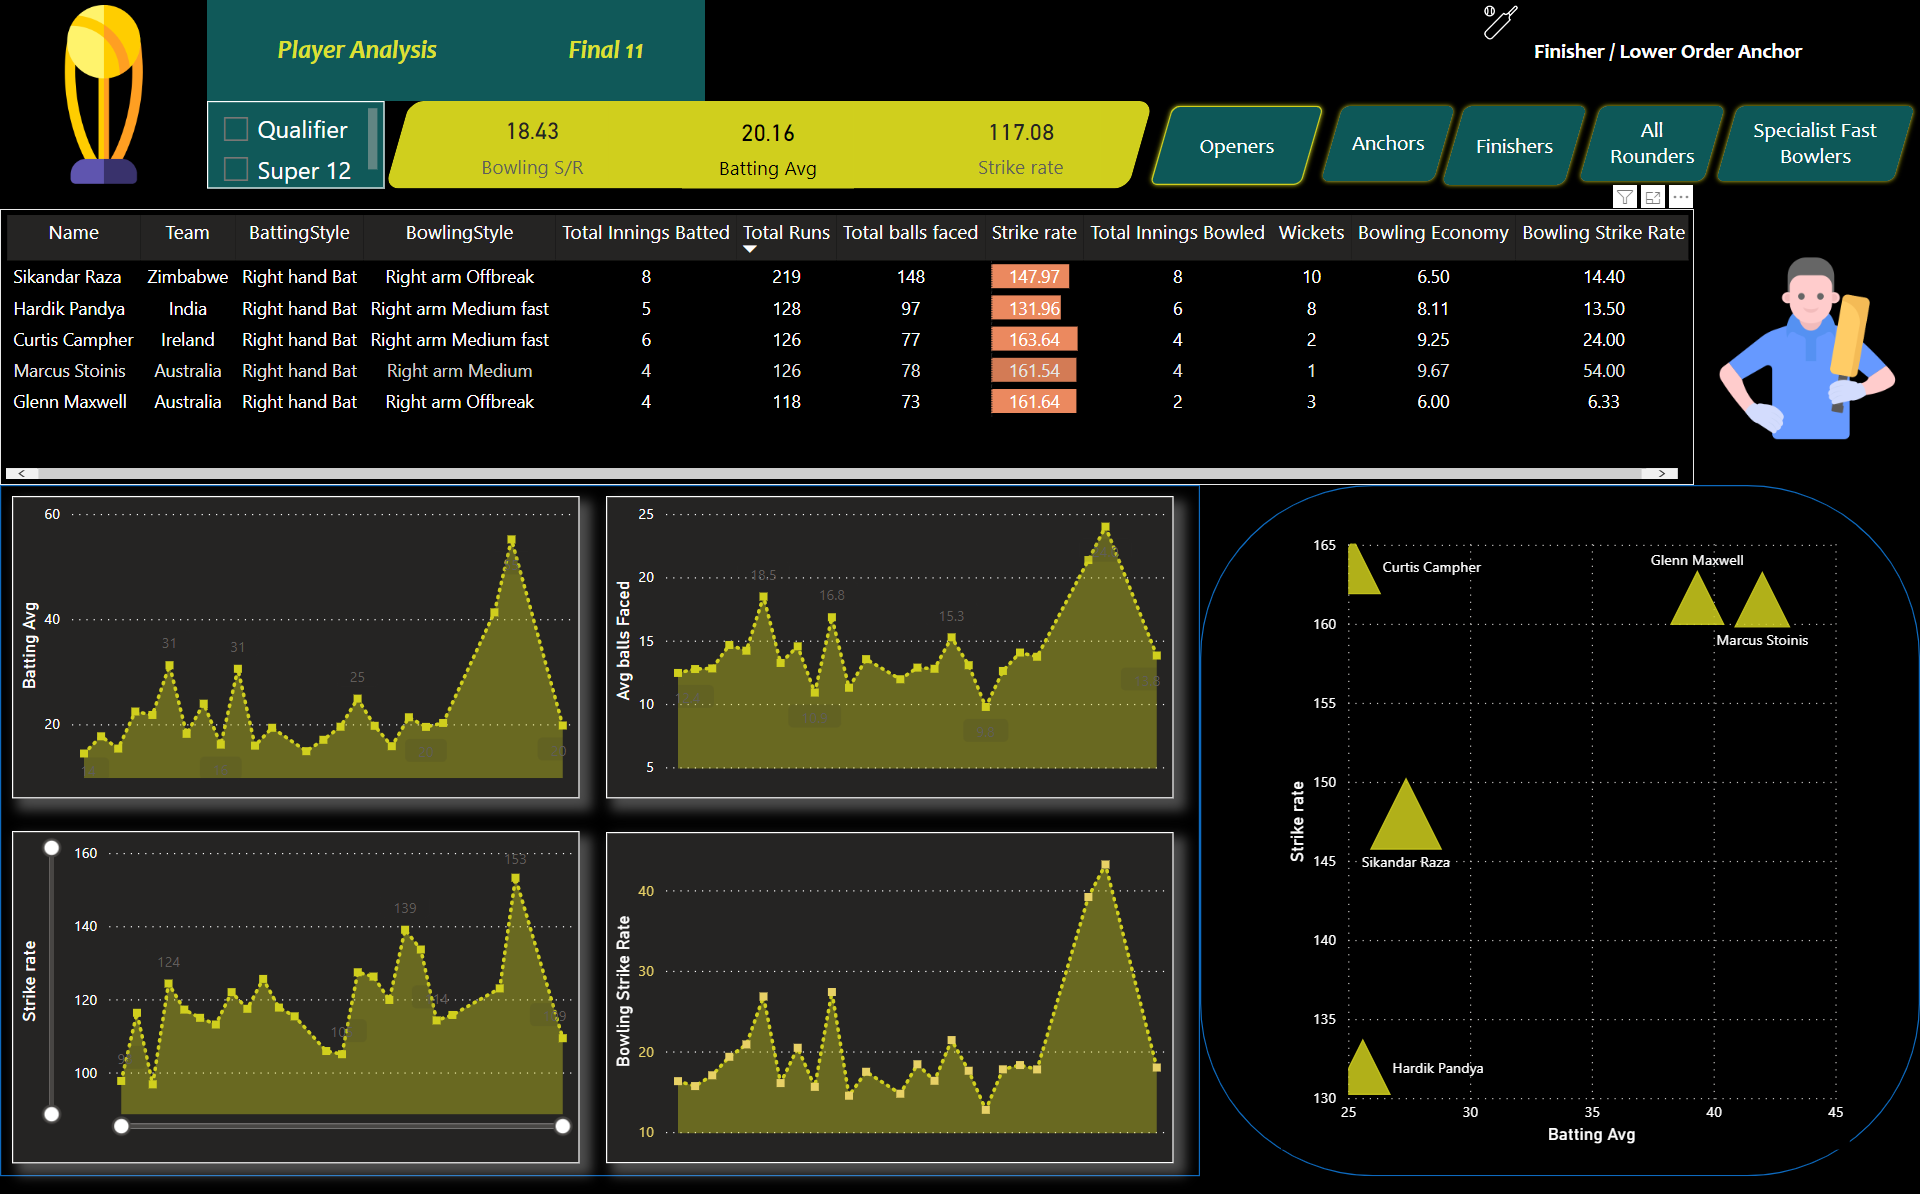

The dashboard page shown, as its layout file describes it:
{"tool":"powerbi","page":{"name":"Finishers","canvas":[1600,1000],"ordinal":2},"visuals":[{"type":"shape","box":[1278.9,2.8,320.9,82.6],"z":0,"group":"g1"},{"type":"shape","box":[321,85.1,639.5,72.9],"z":0},{"type":"image","box":[1223.5,0,54.3,38.7],"z":1000,"group":"g1"},{"type":"card","fields":{"Values":["key_measures.Avg balls Faced"]},"box":[506.8,86.2,134,71.7],"z":1000},{"type":"card","fields":{"Values":["key_measures.Strike rate"]},"box":[784.2,86.3,132.5,69.3],"z":2000},{"type":"card","fields":{"Values":["key_measures.Bowling Strike Rate"]},"box":[379.7,86.2,127.1,69.1],"z":3000},{"type":"card","fields":{"Values":["key_measures.Batting Avg"]},"box":[640.8,86.2,143.3,71.7],"z":4000},{"type":"actionButton","title":"Button Player Ana selected","box":[172.4,0,250,85],"z":5000},{"type":"actionButton","title":"Button Player Ana selected","box":[422.4,0,165,85],"z":6000},{"type":"actionButton","box":[954.4,85.1,153.2,74.2],"z":7000},{"type":"actionButton","box":[1096.4,85.3,120.3,70.8],"z":8000},{"type":"actionButton","box":[1197.6,85.1,128.9,74.2],"z":9000},{"type":"actionButton","box":[1311.9,85.1,130.1,70.5],"z":10000},{"type":"actionButton","box":[1426.1,85.1,173.9,70.5],"z":11000},{"type":"slicer","fields":{"Values":["Dim_match_summary.stage"]},"box":[172.6,85.1,148.3,72.9],"z":12000},{"type":"shape","box":[0,405.2,1000,576.4],"z":13000},{"type":"areaChart","fields":{"Y":["key_measures.Batting Avg"],"Category":["Dim_match_summary.matchDate"]},"box":[9.9,413.8,472.9,252.5],"z":14000},{"type":"areaChart","fields":{"Y":["key_measures.Avg balls Faced"],"Category":["Dim_match_summary.matchDate"]},"box":[504.9,413.8,472.9,252.5],"z":15000},{"type":"areaChart","fields":{"Y":["key_measures.Strike rate"],"Category":["Dim_match_summary.matchDate"]},"box":[9.9,693.3,472.9,277.1],"z":16000},{"type":"areaChart","fields":{"Category":["Dim_match_summary.matchDate"],"Y":["key_measures.Bowling Strike Rate"]},"box":[504.9,694.6,472.9,275.9],"z":17000},{"type":"shape","box":[1000,405.3,599.8,575.9],"z":18000},{"type":"scatterChart","fields":{"Size":["key_measures.Total Runs"],"X":["key_measures.Batting Avg"],"Y":["key_measures.Strike rate"],"Category":["Dim_players.name"]},"box":[1067.7,440.9,474.1,518.5],"z":19000},{"type":"image","box":[0,0,172.4,158.9],"z":20000},{"type":"group","id":"g1","title":"Group 2","box":[1223.5,0,376.3,85.3],"z":21000},{"type":"tableEx","fields":{"Values":["Dim_players.name","Dim_players.team","Dim_players.battingStyle","Dim_players.bowlingStyle","key_measures.Total Innings Batted","key_measures.Total Runs","key_measures.total balls faced","key_measures.Batting Avg","key_measures.Strike rate","key_measures.Total Innings Bowled","key_measures.wickets","key_measures.Bowling Economy"]},"box":[0,174.9,1349.8,230.4],"z":22000},{"type":"image","box":[1349.8,174.9,250,230.4],"z":23000}]}

Visuals, with their boxes in screenshot pixels (x1, y1, x2, y2), scaled from the page's 1600x1000 canvas onto the 1920x1194 screenshot:
shape: rect(1535, 3, 1919, 102)
shape: rect(385, 102, 1153, 189)
image: rect(1468, 0, 1533, 46)
card - key_measures.Avg balls Faced: rect(608, 103, 769, 189)
card - key_measures.Strike rate: rect(941, 103, 1100, 186)
card - key_measures.Bowling Strike Rate: rect(456, 103, 608, 185)
card - key_measures.Batting Avg: rect(769, 103, 941, 189)
"Button Player Ana selected" actionButton: rect(207, 0, 507, 101)
"Button Player Ana selected" actionButton: rect(507, 0, 705, 101)
actionButton: rect(1145, 102, 1329, 190)
actionButton: rect(1316, 102, 1460, 186)
actionButton: rect(1437, 102, 1592, 190)
actionButton: rect(1574, 102, 1730, 186)
actionButton: rect(1711, 102, 1919, 186)
slicer - Dim_match_summary.stage: rect(207, 102, 385, 189)
shape: rect(0, 484, 1200, 1172)
areaChart - key_measures.Batting Avg x Dim_match_summary.matchDate: rect(12, 494, 579, 796)
areaChart - key_measures.Avg balls Faced x Dim_match_summary.matchDate: rect(606, 494, 1173, 796)
areaChart - key_measures.Strike rate x Dim_match_summary.matchDate: rect(12, 828, 579, 1159)
areaChart - Dim_match_summary.matchDate x key_measures.Bowling Strike Rate: rect(606, 829, 1173, 1159)
shape: rect(1200, 484, 1919, 1172)
scatterChart - key_measures.Total Runs x key_measures.Batting Avg: rect(1281, 526, 1850, 1146)
image: rect(0, 0, 207, 190)
"Group 2" group: rect(1468, 0, 1919, 102)
tableEx - Dim_players.name x Dim_players.team: rect(0, 209, 1620, 484)
image: rect(1620, 209, 1919, 484)
